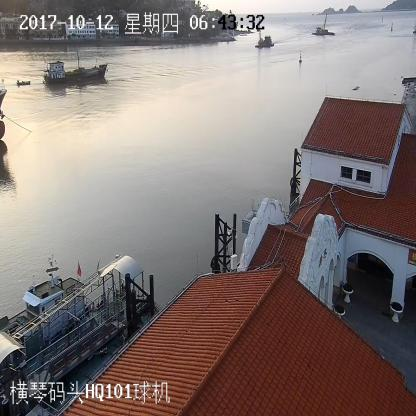Fishing Boat: (44, 55, 109, 84), (17, 80, 30, 86)
